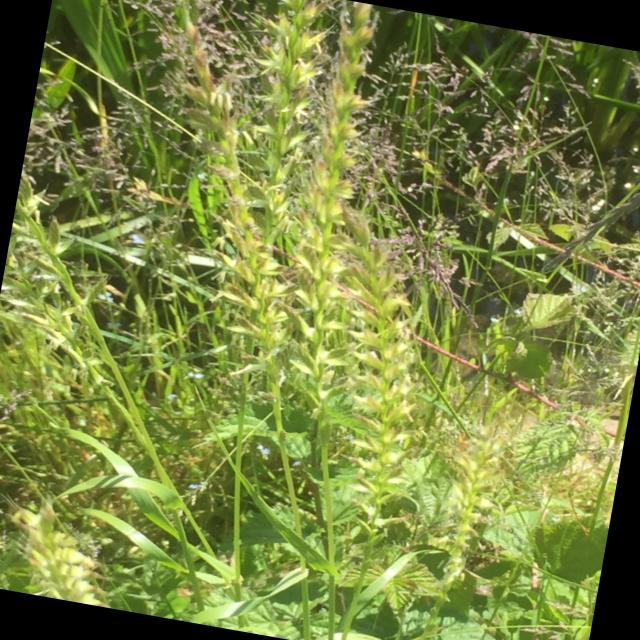Lolium: (120, 17, 343, 401), (212, 0, 352, 392), (284, 207, 439, 550), (277, 3, 396, 415), (0, 239, 133, 406), (0, 168, 116, 322), (7, 495, 118, 606), (545, 159, 640, 285), (438, 441, 498, 581)
